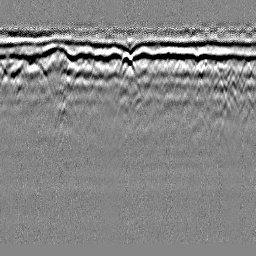cavity: (118, 51, 136, 75)
